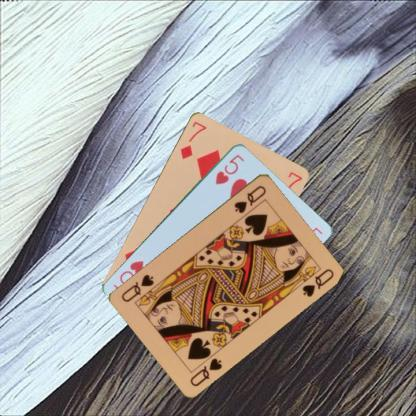5h: (213, 151, 245, 186)
7d: (177, 118, 208, 160)
Qs: (187, 354, 224, 388), (231, 182, 268, 215)
